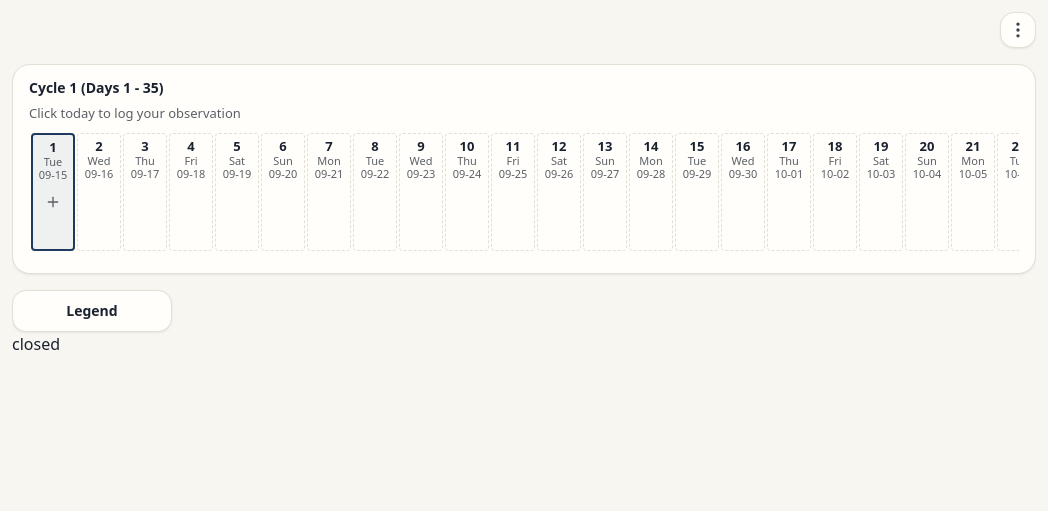
Test: ChartRow interactions › toggles the legend of the empty grid
The width and height of the screenshot is (1048, 511).
Click the button "Legend" at (92, 311), box [12,290,172,332]
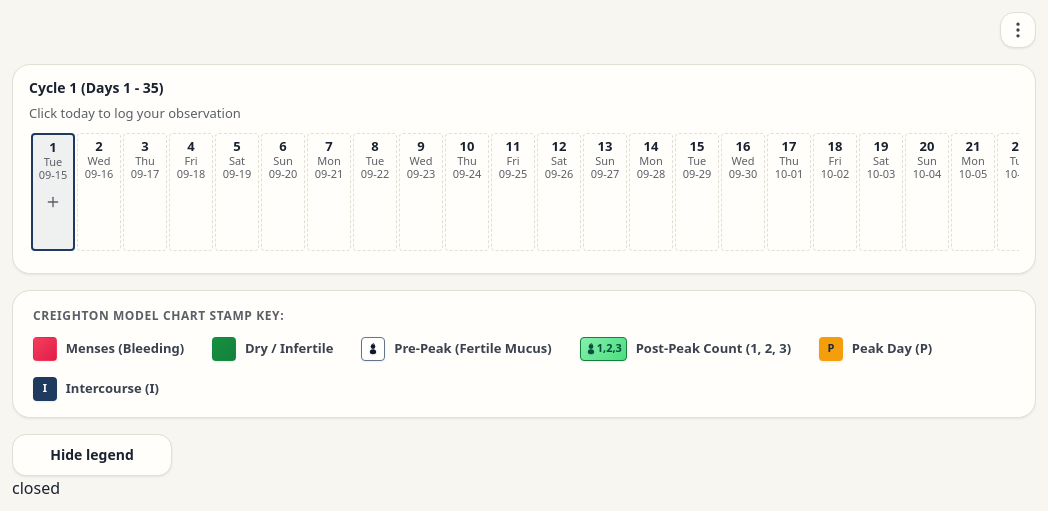
Now the text "Creighton Model Chart Stamp Key:" is shown, box [33,306,284,324]
Click the button "Hide legend" at (92, 455), box [12,434,172,476]
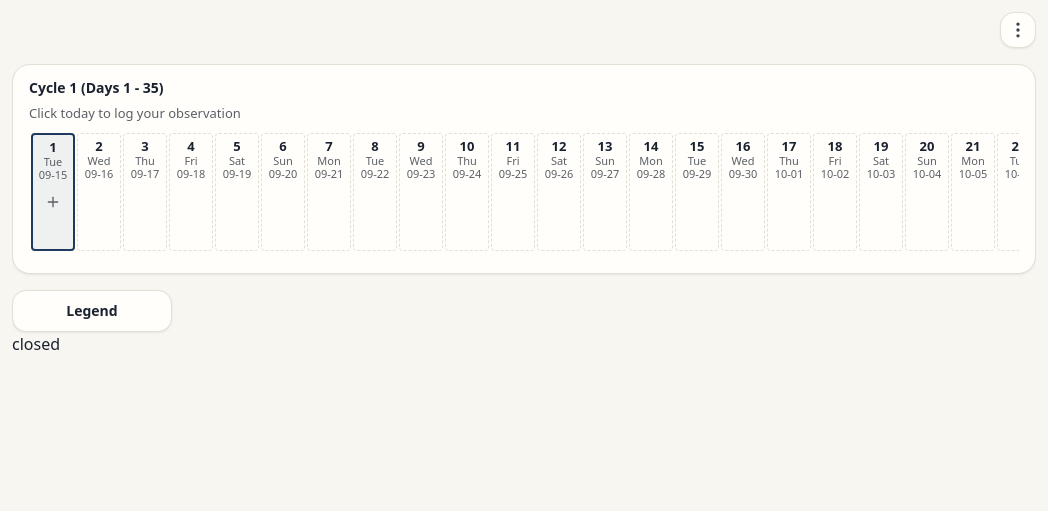
Now the text "Creighton Model Chart Stamp Key:" is gone
